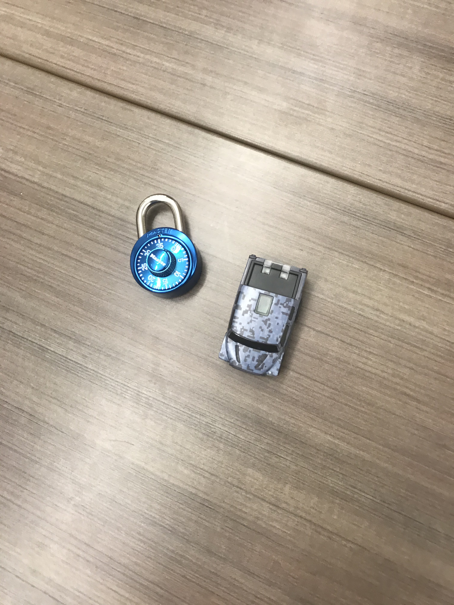MXT: (219, 252, 310, 381)
